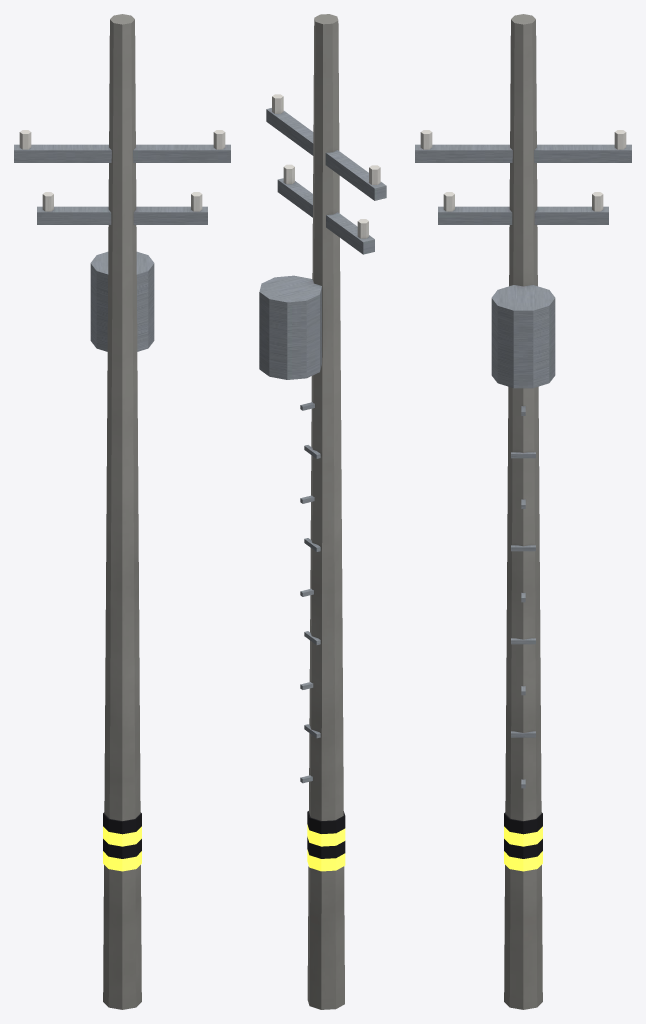
File: elstolpe_tex.glb
The picture shows the model from 3 angles, left to right: view 1: azimuth 90°, elevation 25°; view 2: azimuth 210°, elevation 25°; view 3: azimuth 270°, elevation 25°; orthographic projection.
Parts seen in each view (by area): view 1: elstolpe; view 2: elstolpe; view 3: elstolpe.
Part boxes in pixels (x1,y1,x2,y2): elstolpe: [14, 14, 230, 1009]; elstolpe: [259, 14, 386, 1009]; elstolpe: [415, 14, 631, 1009].
Bounding box in the file's own units: 0.7983 × 9.5 × 1.9.
5 materials, 3 textured.
